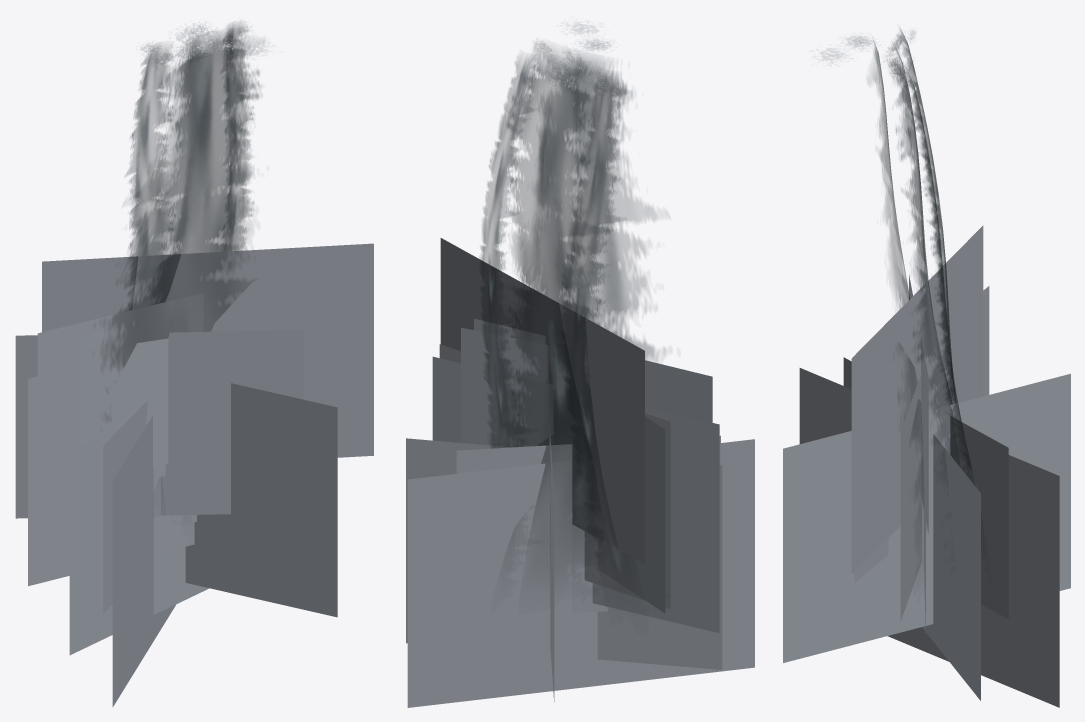
The model's file is fx_waterfall_notch_ribbon_16m.glb.
The picture shows the model from 3 angles, left to right: view 1: azimuth 30°, elevation 25°; view 2: azimuth 150°, elevation 25°; view 3: azimuth 270°, elevation 25°; orthographic projection. The views are drawn at different scales.
Parts seen in each view (by area): view 1: fx_waterfall_notch_ribbon_16m_base_mist, fx_waterfall_notch_ribbon_16m, fx_waterfall_notch_ribbon_16m_ribbon_main, fx_waterfall_notch_ribbon_16m_ribbon_front_a, fx_waterfall_notch_ribbon_16m_ribbon_front_b, fx_waterfall_notch_ribbon_16m_lip_foam; view 2: fx_waterfall_notch_ribbon_16m_base_mist, fx_waterfall_notch_ribbon_16m_ribbon_main, fx_waterfall_notch_ribbon_16m, fx_waterfall_notch_ribbon_16m_ribbon_front_a, fx_waterfall_notch_ribbon_16m_ribbon_front_b, fx_waterfall_notch_ribbon_16m_lip_foam; view 3: fx_waterfall_notch_ribbon_16m_base_mist, fx_waterfall_notch_ribbon_16m_ribbon_main, fx_waterfall_notch_ribbon_16m, fx_waterfall_notch_ribbon_16m_ribbon_front_b, fx_waterfall_notch_ribbon_16m_ribbon_front_a, fx_waterfall_notch_ribbon_16m_lip_foam.
Boxes of the visible parts, x1,y1,x2,y2 form: fx_waterfall_notch_ribbon_16m_base_mist: (15,243,373,707); fx_waterfall_notch_ribbon_16m: (101,41,264,419); fx_waterfall_notch_ribbon_16m_ribbon_main: (146,32,260,304); fx_waterfall_notch_ribbon_16m_ribbon_front_a: (125,43,174,310); fx_waterfall_notch_ribbon_16m_ribbon_front_b: (223,23,253,250); fx_waterfall_notch_ribbon_16m_lip_foam: (140,20,273,69); fx_waterfall_notch_ribbon_16m_base_mist: (406,238,754,707); fx_waterfall_notch_ribbon_16m_ribbon_main: (508,54,603,578); fx_waterfall_notch_ribbon_16m: (513,46,665,445); fx_waterfall_notch_ribbon_16m_ribbon_front_a: (561,72,630,578); fx_waterfall_notch_ribbon_16m_ribbon_front_b: (479,55,536,568); fx_waterfall_notch_ribbon_16m_lip_foam: (537,20,620,94); fx_waterfall_notch_ribbon_16m_base_mist: (783,225,1070,707); fx_waterfall_notch_ribbon_16m_ribbon_main: (893,47,960,480); fx_waterfall_notch_ribbon_16m: (868,42,923,497); fx_waterfall_notch_ribbon_16m_ribbon_front_b: (903,67,976,487); fx_waterfall_notch_ribbon_16m_ribbon_front_a: (897,28,955,403); fx_waterfall_notch_ribbon_16m_lip_foam: (813,30,915,80).
Size of the model in its own units: 10.13 by 18.3 by 7.51.
Materials: 5 (5 with a texture image).
